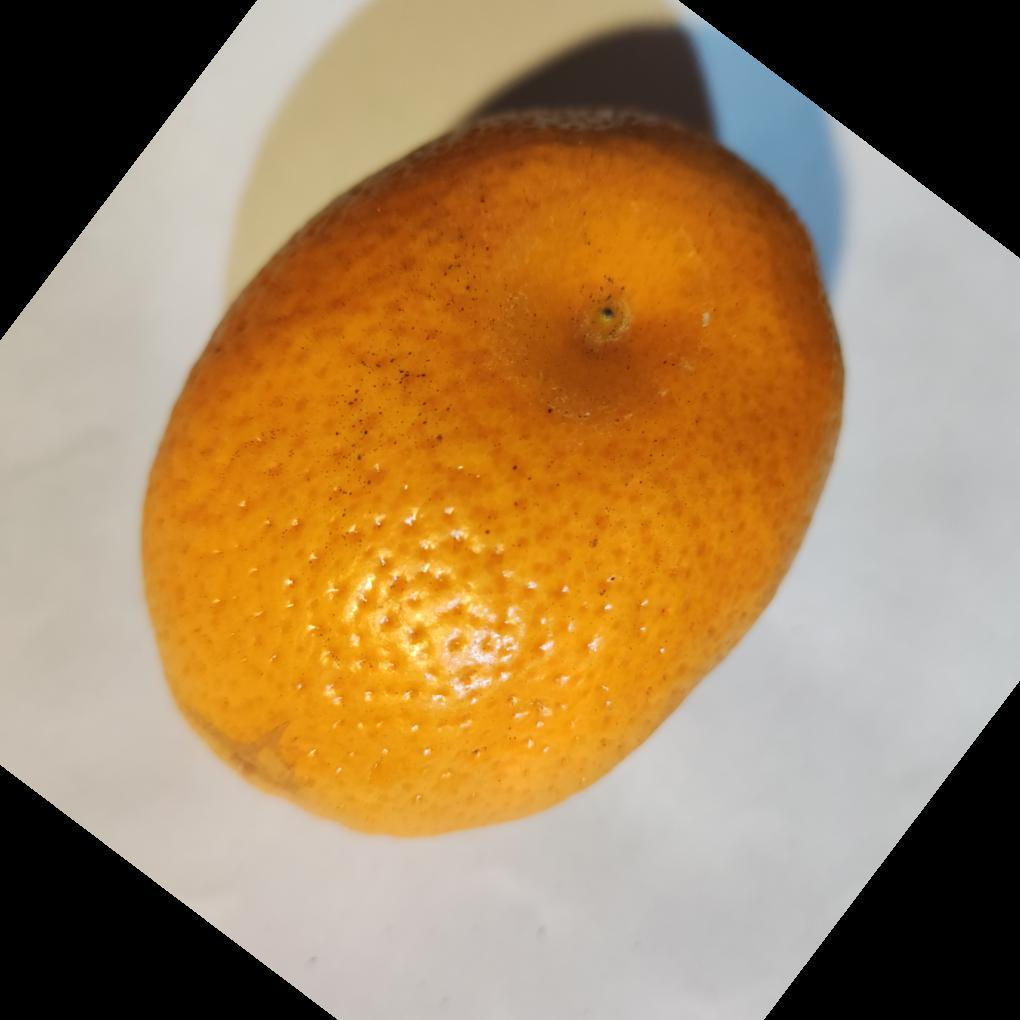FreshGuava: (133, 105, 847, 845)
